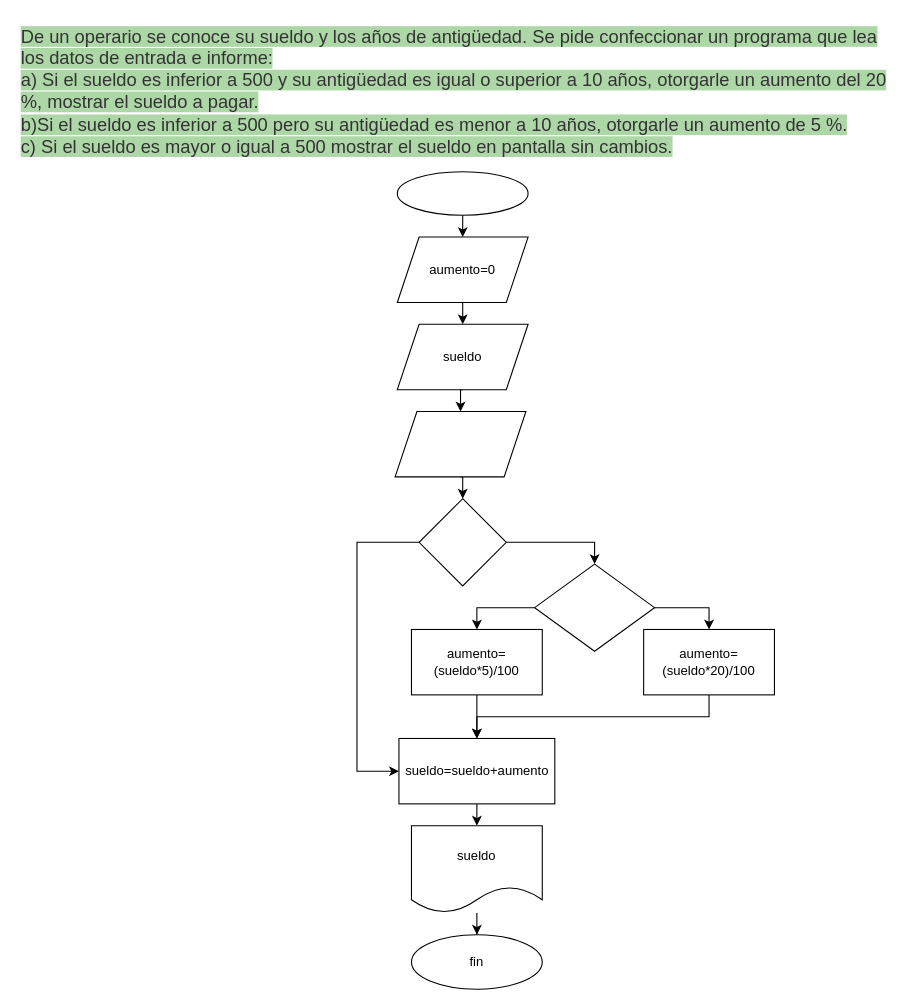
This 920x1008 diagram has some shape labels left out. Here are the shapes that lost their labels. From the top down, the centre of each, then its label:
the point at 462,193: inicio
the point at 460,443: antiguedad
the point at 462,542: sueldo<500
the point at 594,607: antiguedad>=10
